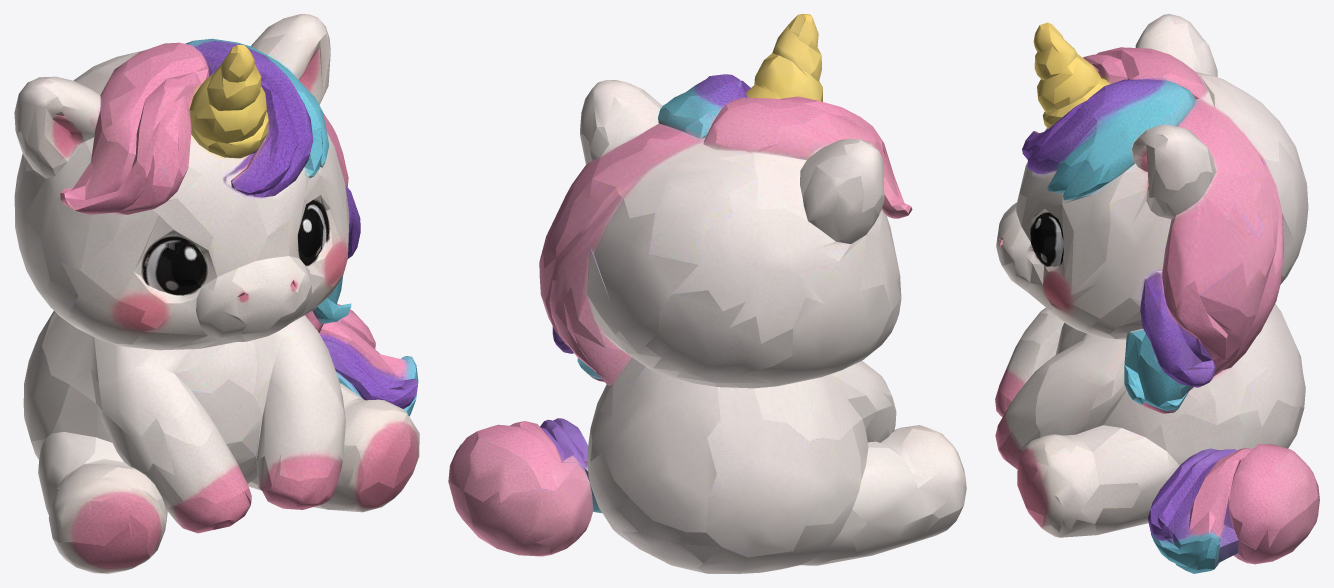
The model's file is ting-enhjoerning.glb.
3 views of the same model, side by side, from view 1: azimuth 30°, elevation 25°; view 2: azimuth 150°, elevation 25°; view 3: azimuth 270°, elevation 25° (orthographic). The views are drawn at different scales.
Bounding box in the file's own units: 1.73 × 1.9 × 1.23.
1 material, 1 textured.
